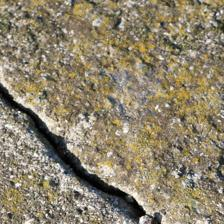Crack: (2, 41, 147, 180)
